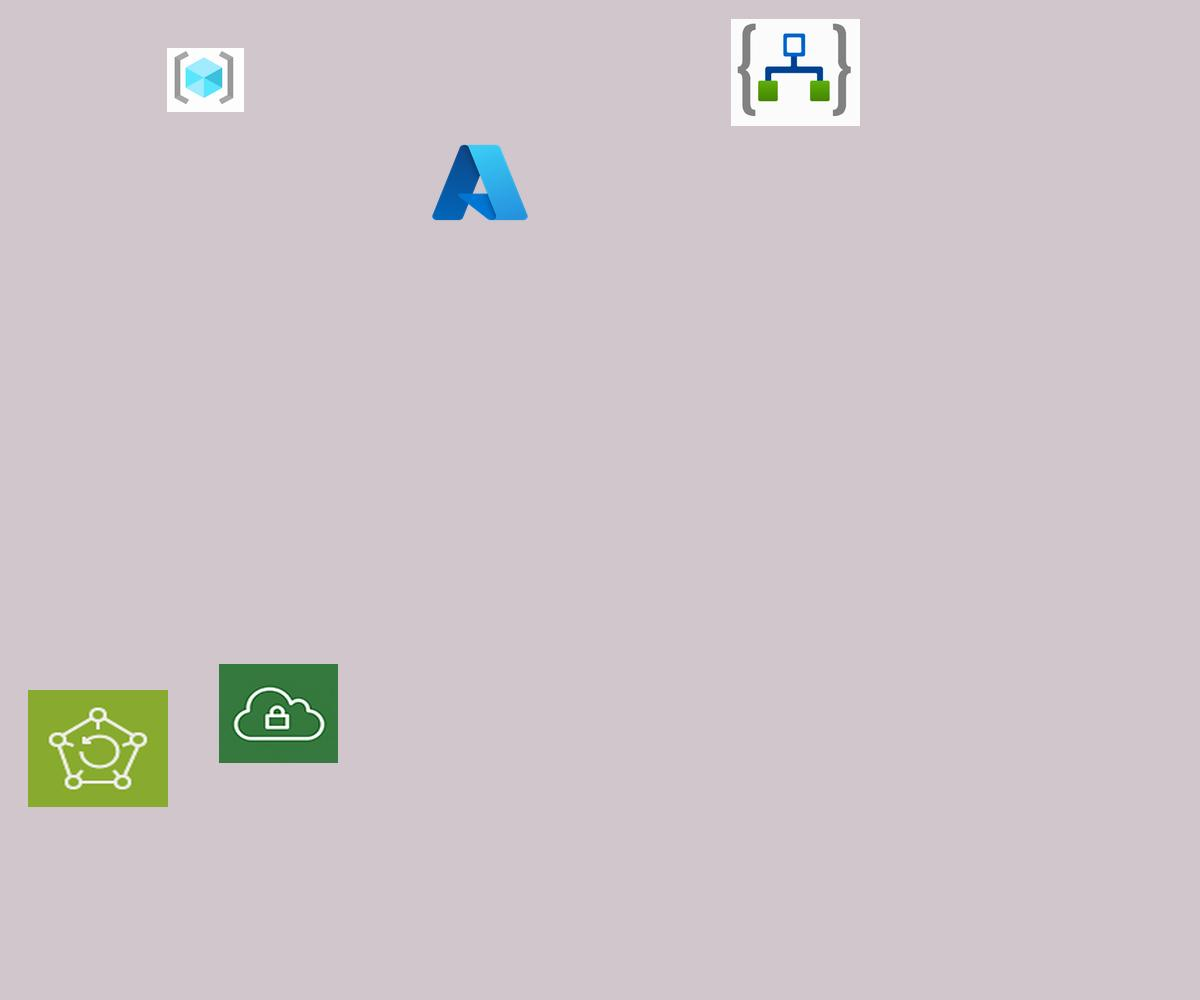AWS-Backup: (28, 690, 168, 807)
AWS-Private_vpc: (219, 664, 338, 763)
Azure_integration-204-Logic-Apps: (731, 19, 860, 126)
Azure_resource_group: (167, 48, 244, 112)
Azure_services: (428, 139, 532, 226)
